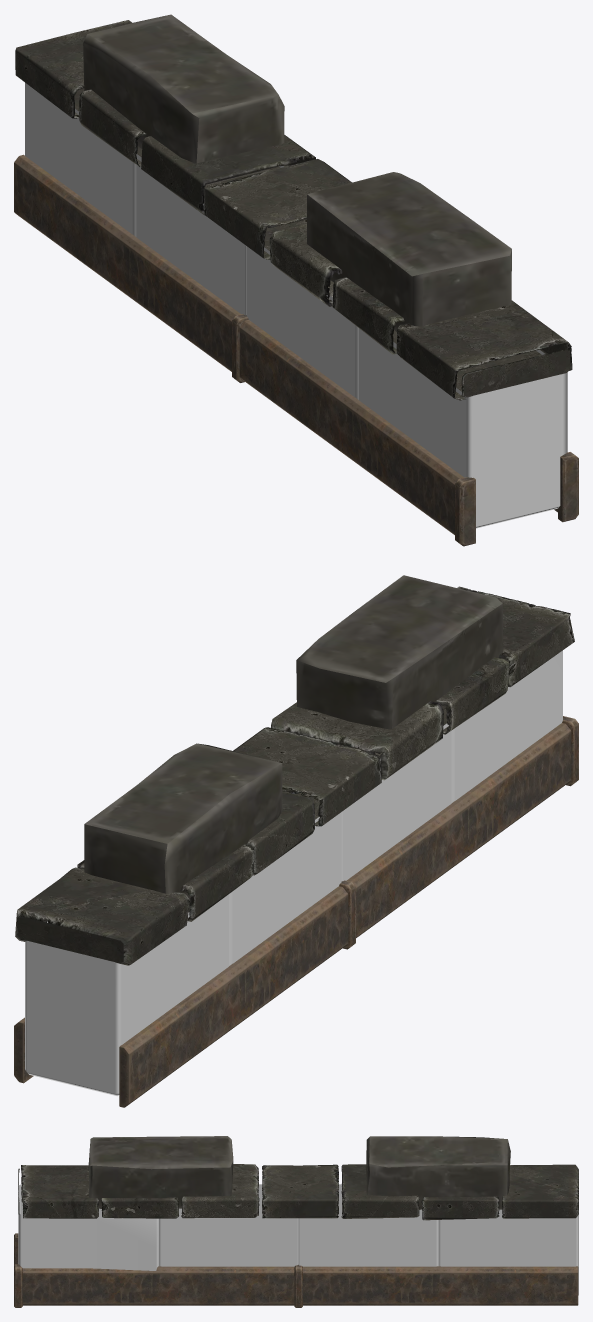
3 views of the same model, one above another, from view 1: azimuth 30°, elevation 25°; view 2: azimuth 150°, elevation 25°; view 3: azimuth 270°, elevation 25° (orthographic). The views are drawn at different scales.
Visible parts, largest first — view 1: SM_Greathall_Wall_Top_8x2_02_LOD0; view 2: SM_Greathall_Wall_Top_8x2_02_LOD0; view 3: SM_Greathall_Wall_Top_8x2_02_LOD0.
Boxes of the visible parts, bbox=[...] form: SM_Greathall_Wall_Top_8x2_02_LOD0: bbox=[14, 14, 578, 546]; SM_Greathall_Wall_Top_8x2_02_LOD0: bbox=[14, 575, 578, 1107]; SM_Greathall_Wall_Top_8x2_02_LOD0: bbox=[14, 1136, 578, 1307].
Size of the model in its own units: 1.25 by 2.28 by 8.06.
Materials: 4 (3 with a texture image).
